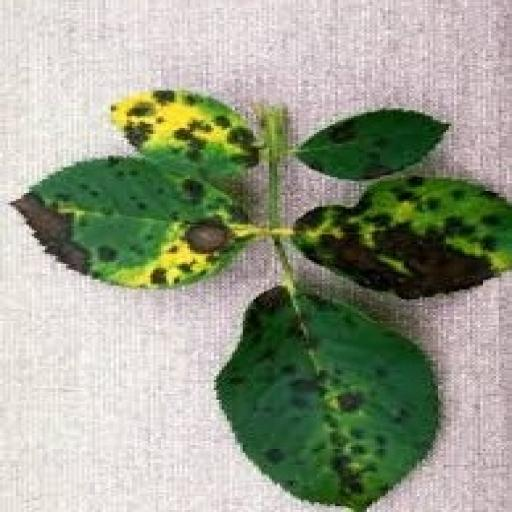downy_mildew: (217, 288, 438, 511), (14, 158, 250, 287), (293, 176, 511, 299), (111, 91, 258, 177), (296, 111, 448, 181)
